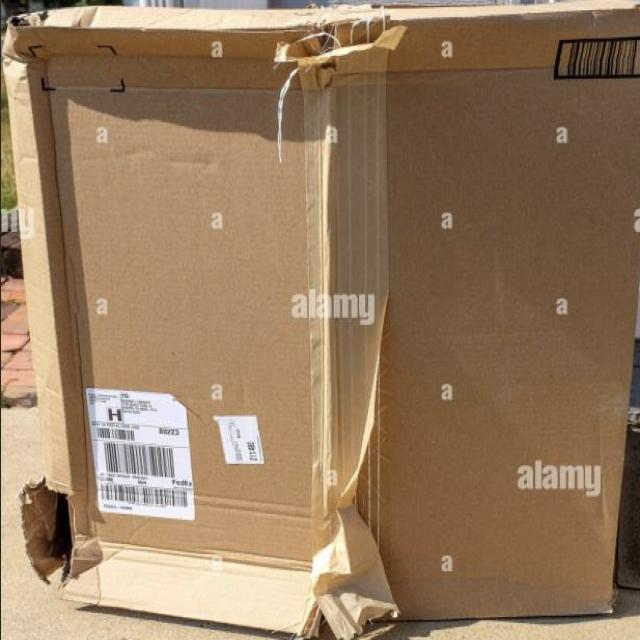hole: (28, 474, 82, 599)
